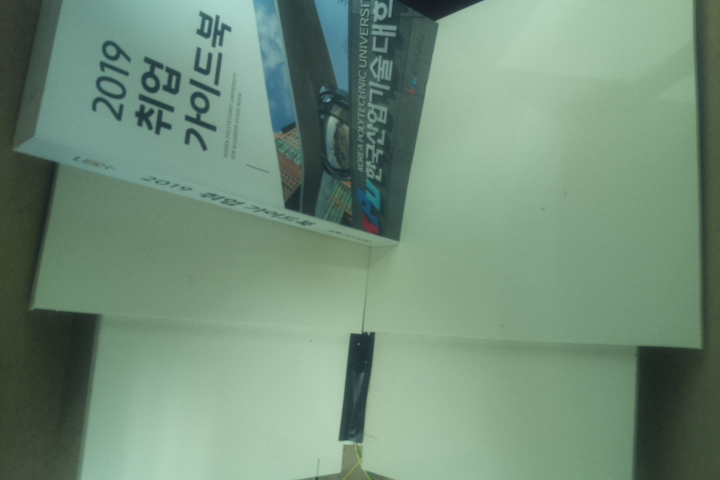book: (7, 1, 443, 249)
